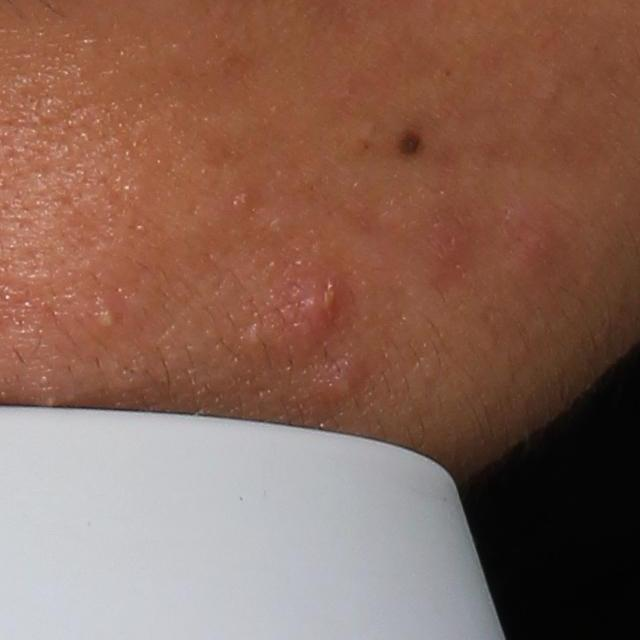nevus: (392, 127, 424, 161)
papule: (274, 270, 348, 354), (497, 198, 562, 277), (312, 352, 375, 407)
pustule: (87, 296, 126, 334)
